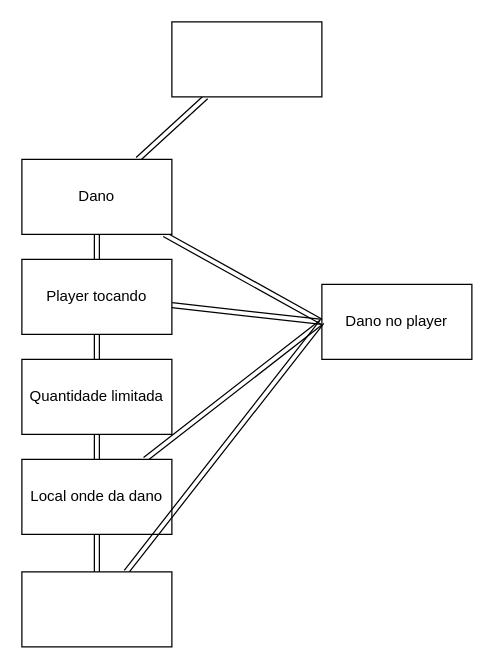
This 494x669 diagram has some shape labels left out. Here are the shapes that lost their labels. From the top down, the centre of each, then its label:
At pixel 246 59: "Gás".
At pixel 96 609: "Ativado ou desativado".
